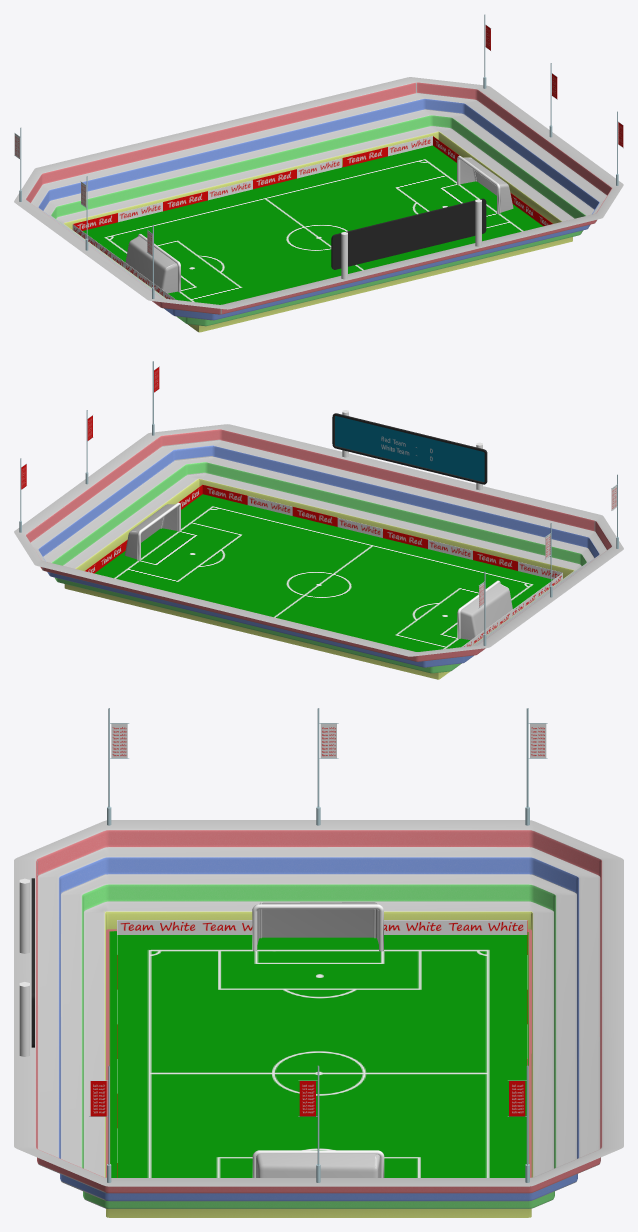
Rendered from FootballMiniStadium.fbx.
3 views of the same model, one above another, from view 1: azimuth 30°, elevation 25°; view 2: azimuth 150°, elevation 25°; view 3: azimuth 270°, elevation 25° (orthographic). The views are drawn at different scales.
Parts seen in each view (by area): view 1: Plane009, Box015, FootBall_Stadium_New_Color001, Box016, Box014; view 2: Plane009, Box015, FootBall_Stadium_New_Color001, Box016, Box014; view 3: Plane009, FootBall_Stadium_New_Color001, Box016, Box014, Shape010, Cylinder038, Cylinder042, Cylinder041, Cylinder043, Cylinder044, Cylinder045, Cylinder040 (+2 smaller).
Boxes of the visible parts, x1,y1,x2,y2 form: Plane009: (14, 77, 623, 332); Box015: (331, 198, 486, 269); FootBall_Stadium_New_Color001: (72, 136, 552, 299); Box016: (125, 236, 177, 293); Box014: (460, 158, 513, 212); Plane009: (14, 424, 623, 679); Box015: (332, 413, 487, 484); FootBall_Stadium_New_Color001: (85, 484, 562, 646); Box016: (460, 583, 512, 640); Box014: (125, 504, 177, 559); Plane009: (14, 820, 623, 1217); FootBall_Stadium_New_Color001: (117, 920, 527, 1177); Box016: (257, 902, 378, 944); Box014: (256, 1154, 380, 1177); Shape010: (252, 904, 383, 951); Cylinder038: (507, 1065, 529, 1182); Cylinder042: (298, 1065, 320, 1182); Cylinder041: (525, 708, 547, 825); Cylinder043: (316, 708, 338, 825); Cylinder044: (89, 1065, 111, 1182); Cylinder045: (107, 708, 129, 825); Cylinder040: (19, 878, 29, 953).
Bounding box in the file's own units: 5692 × 1393 × 4004.
